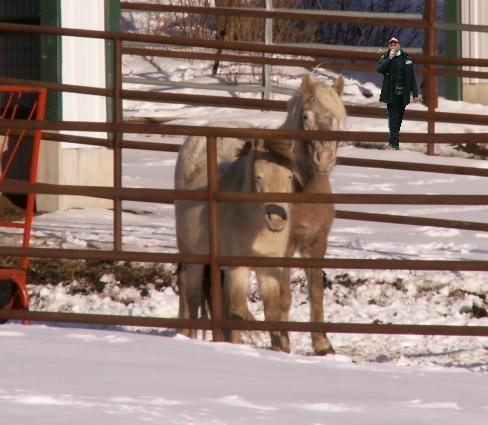tampered: (378, 38, 418, 150)
